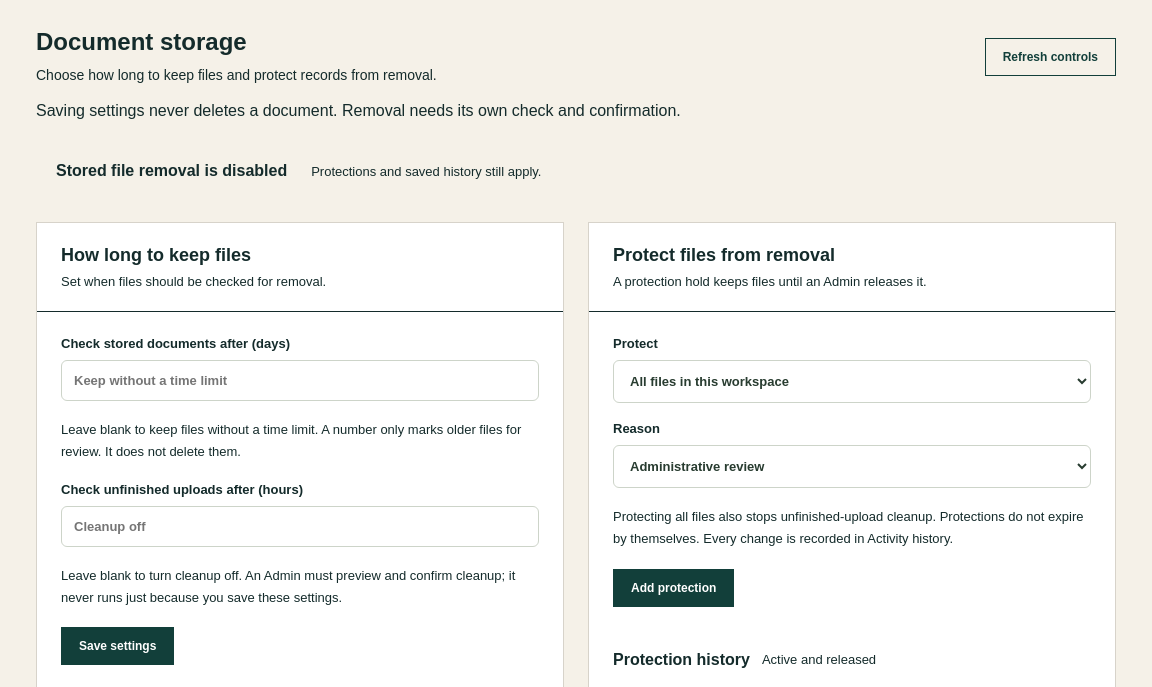
sends the loaded version and explicit null policy values
Click the button "Save settings": click(118, 646) [61,627,174,665]
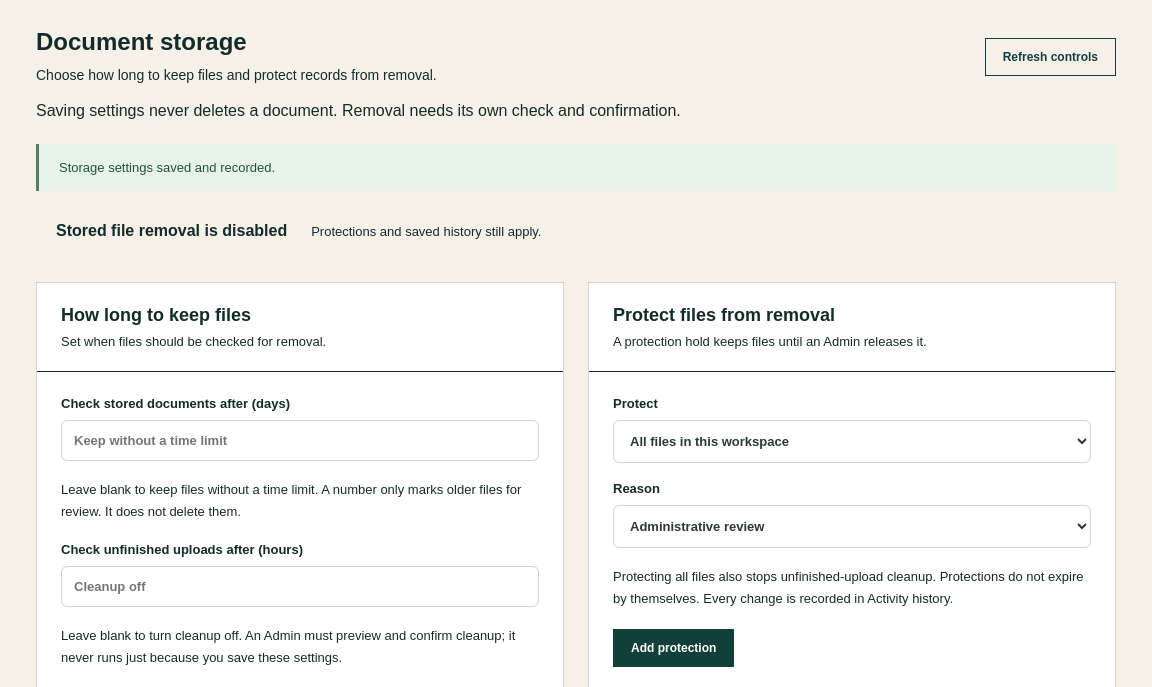
expect the text "Storage settings saved and recorded." is shown: met, box [36,144,1116,191]
